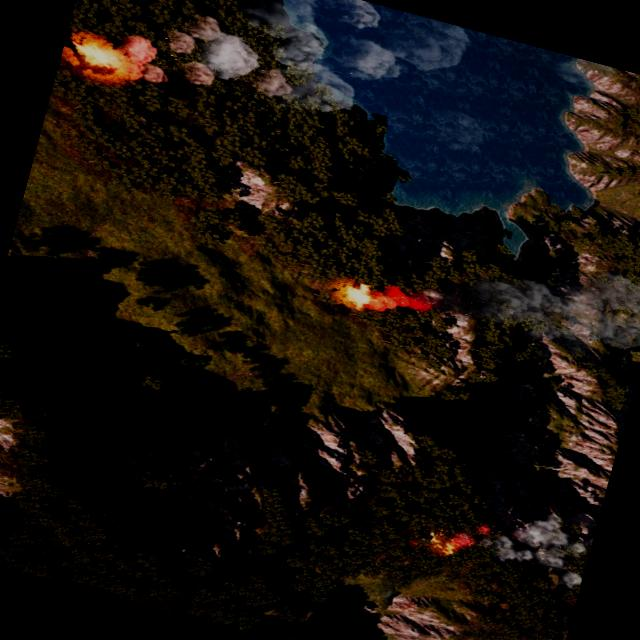fire: (63, 29, 143, 83), (412, 522, 478, 566), (327, 275, 378, 313)
smoke: (162, 0, 499, 151), (377, 223, 640, 383), (485, 496, 597, 592)
